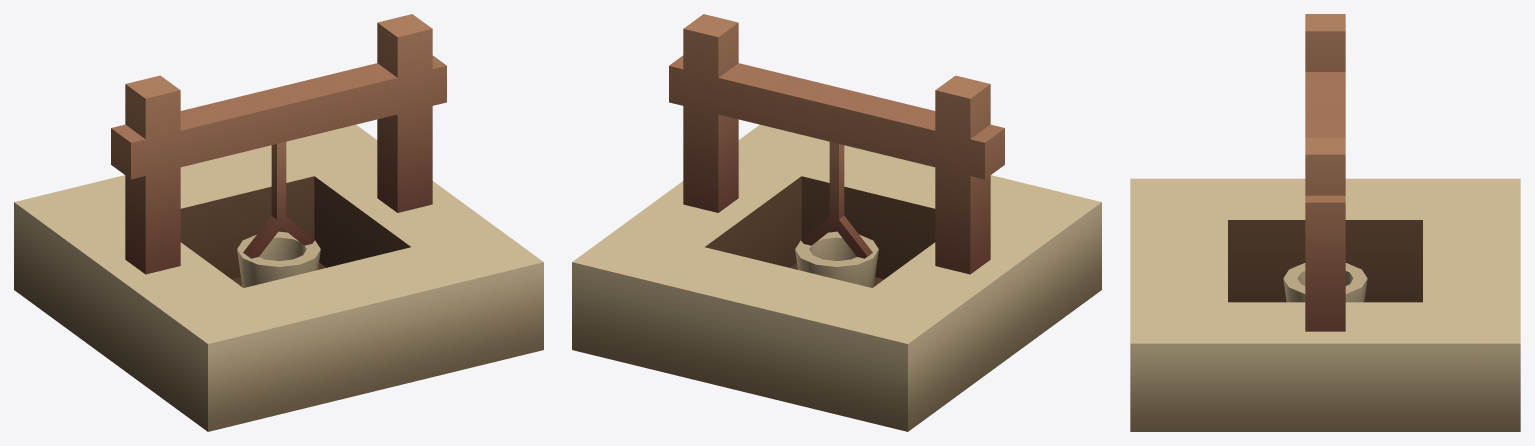
File: SM_Well_Square.fbx
3 views of the same model, side by side, from view 1: azimuth 30°, elevation 25°; view 2: azimuth 150°, elevation 25°; view 3: azimuth 270°, elevation 25° (orthographic).
Parts seen in each view (by area): view 1: Well_Square; view 2: Well_Square; view 3: Well_Square.
Boxes of the visible parts, x1,y1,x2,y2 form: Well_Square: [14, 14, 543, 431]; Well_Square: [572, 14, 1101, 431]; Well_Square: [1130, 14, 1520, 431].
Bounding box in the file's own units: 400 × 300 × 400.
